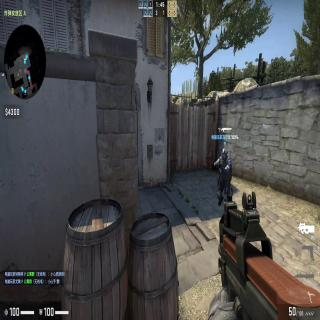CT-Body: (214, 150, 233, 201)
CT-Head: (220, 148, 227, 162)
